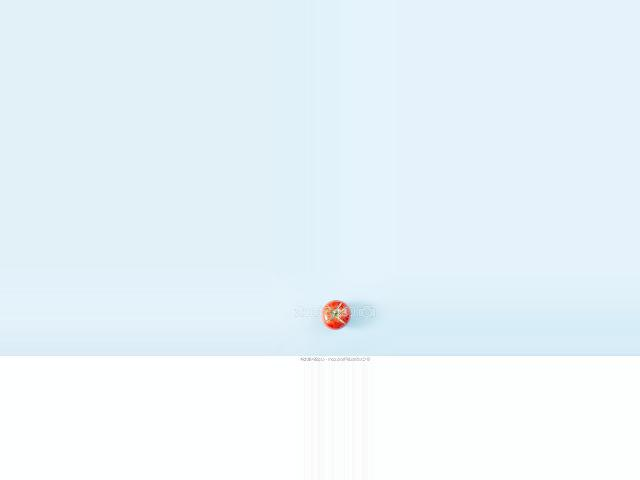tomato: (321, 300, 350, 331)
